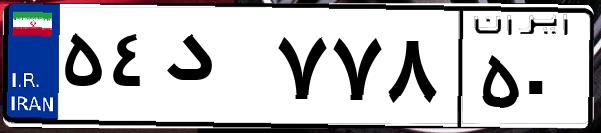0: (525, 38, 570, 115)
4: (110, 28, 158, 98)
5: (57, 26, 110, 100), (475, 38, 525, 113)
7: (270, 28, 330, 110), (330, 28, 385, 110)
8: (385, 28, 445, 110)
د: (158, 20, 270, 120)
